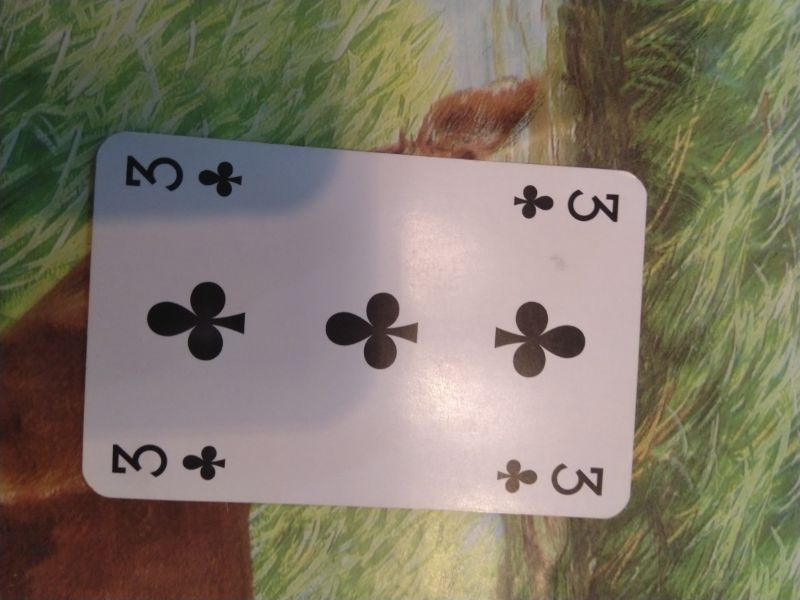3c: (118, 150, 247, 201), (492, 450, 609, 505), (105, 435, 233, 484), (510, 180, 624, 230)
